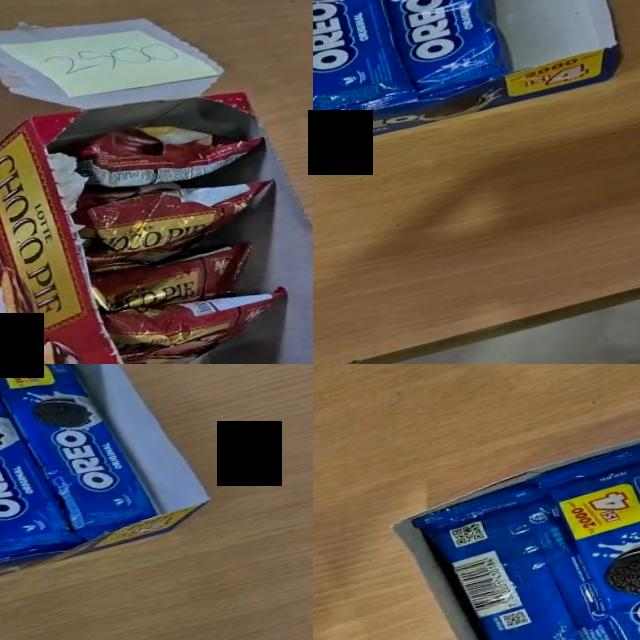Chocopie: (75, 163, 286, 275), (65, 96, 270, 204), (99, 272, 295, 364), (89, 238, 262, 322)
Oreo: (407, 462, 640, 640), (0, 364, 159, 554), (533, 420, 640, 640), (0, 364, 82, 579), (359, 0, 517, 105), (313, 0, 416, 127)
